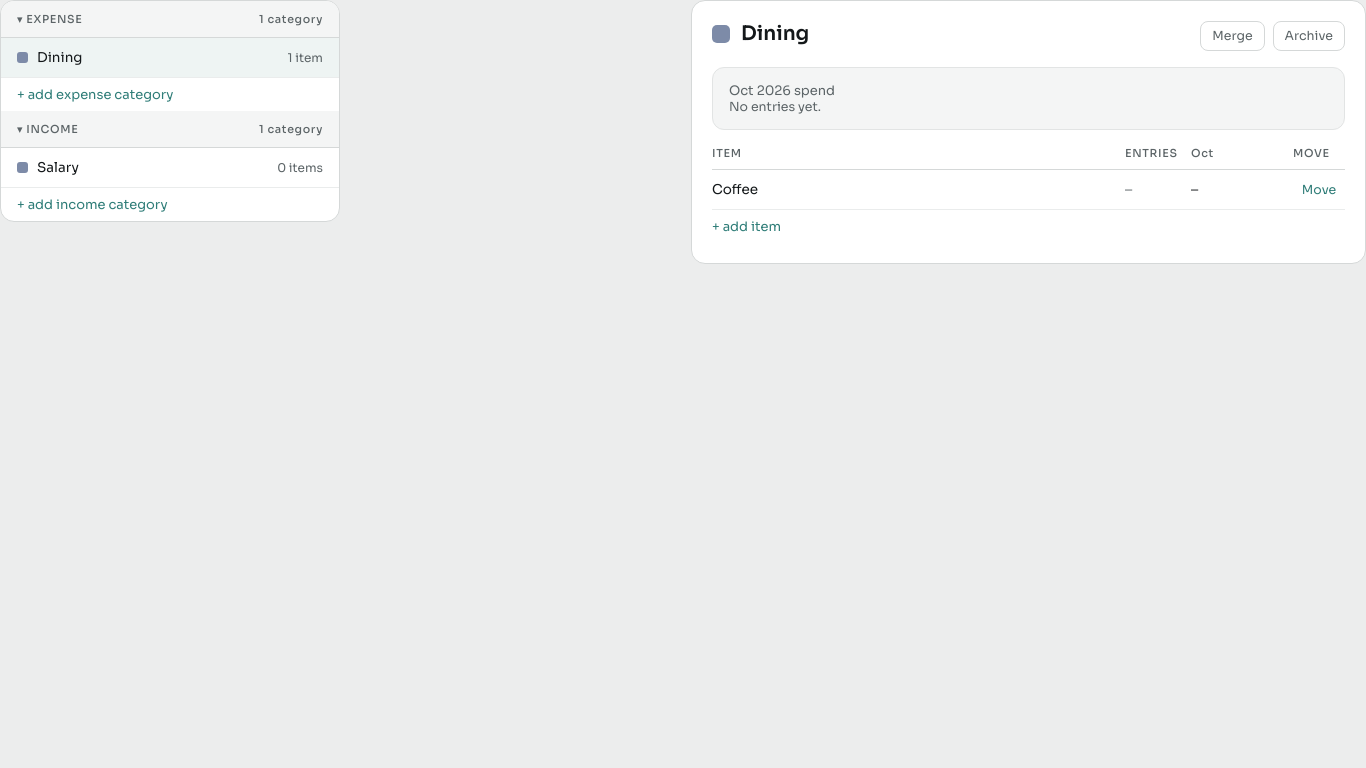
Test: category operation dialogs › explains when no other active destination exists
Click the button "Move" at (1319, 190), box [1293,182,1345,198]
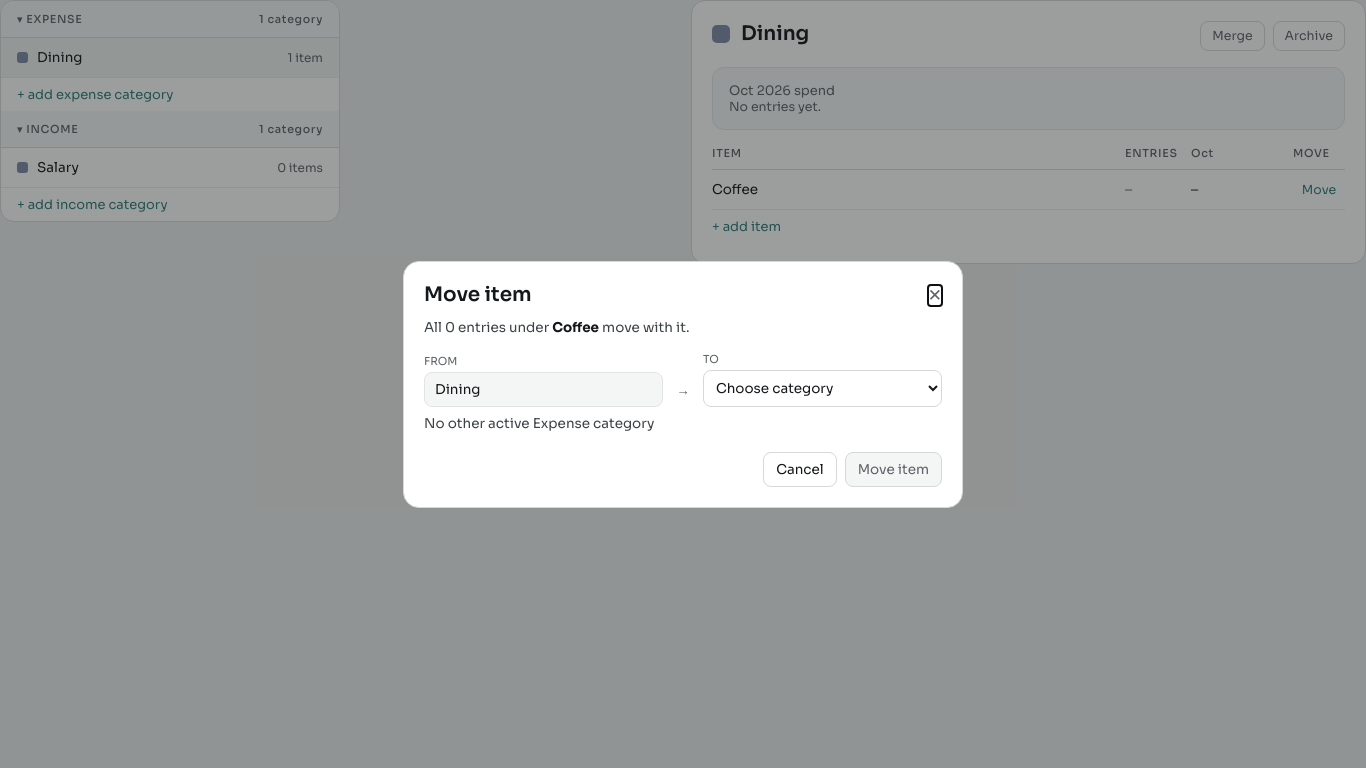
Expected: the text "No other active Expense category" is shown 2 times
Expected: the button "Move item" is disabled, [845,452,942,486]
Click the button "Cancel" at (800, 469), box [763,452,837,486]
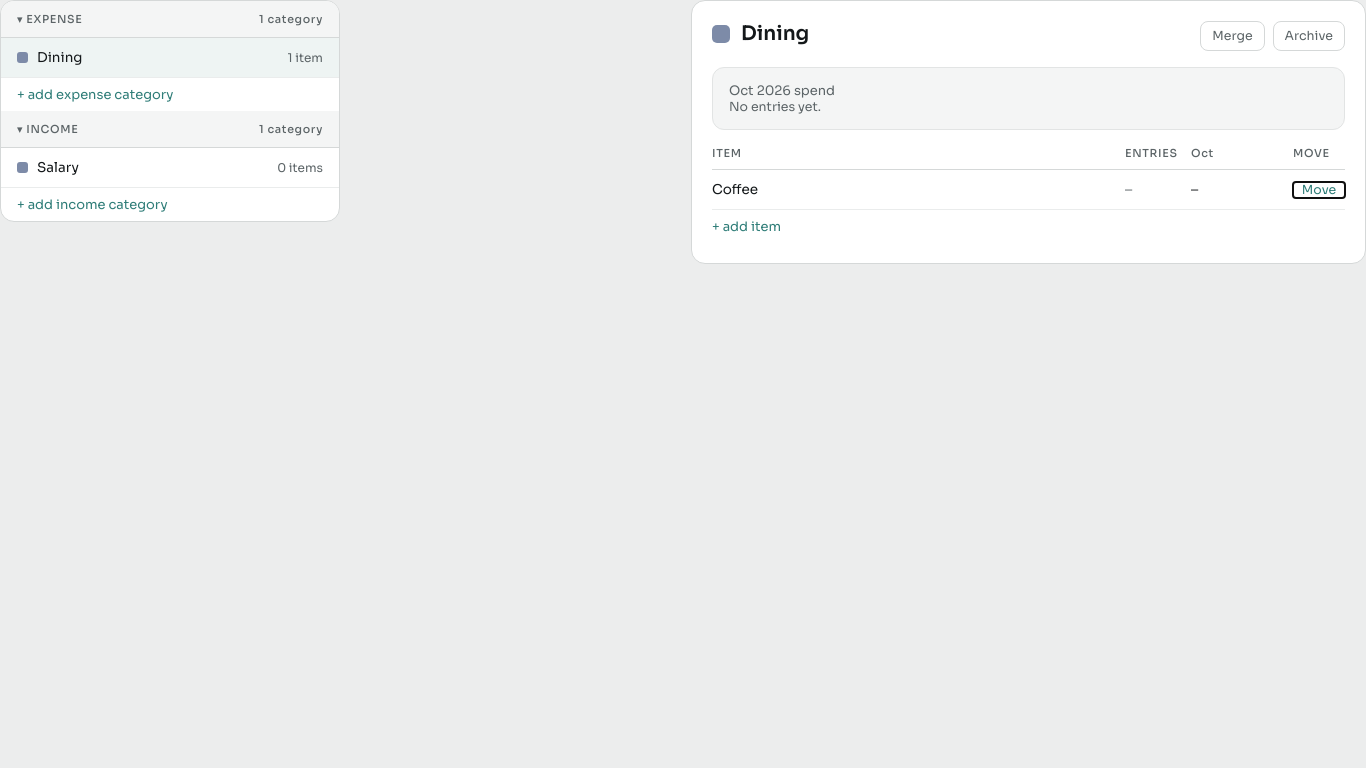
Click the button "Merge" at (1232, 36), box [1200,21,1265,51]
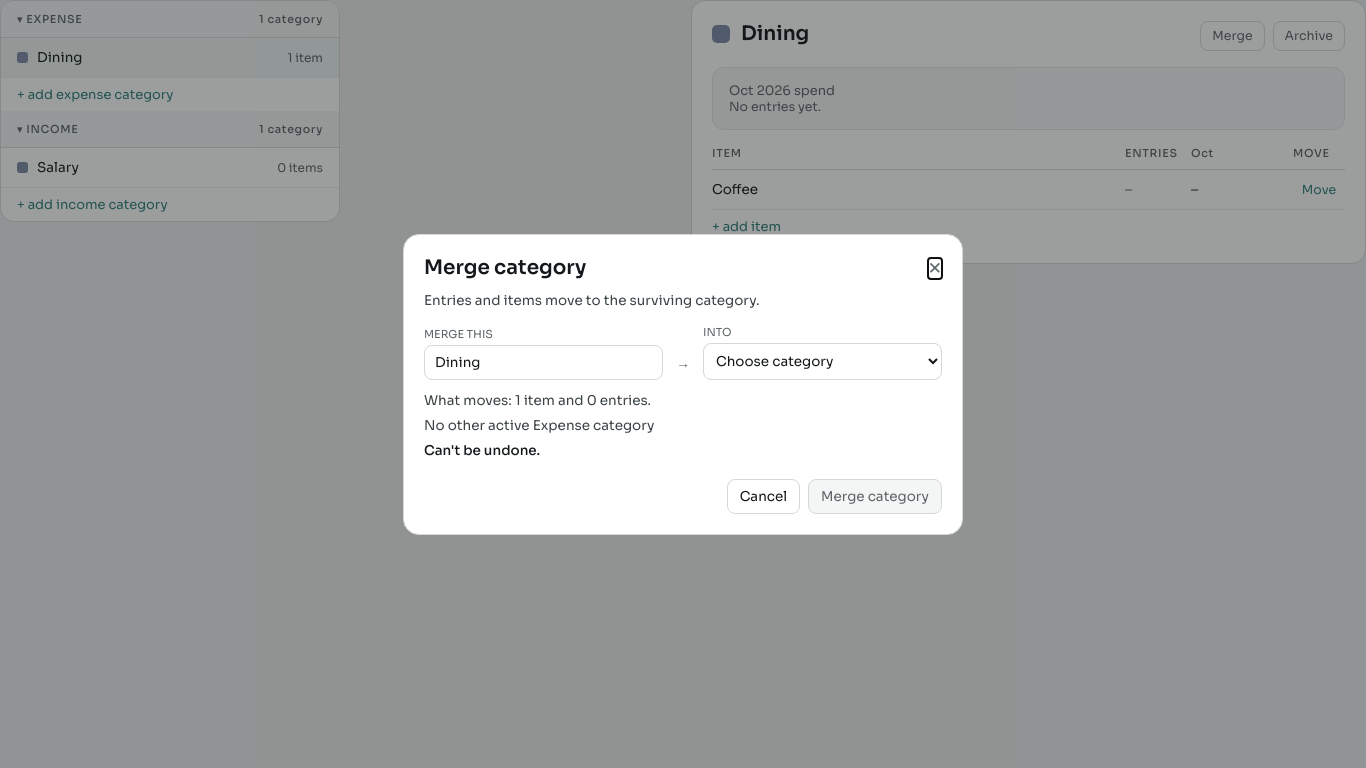
Expected: the button "Merge category" is disabled, [808,478,942,514]
